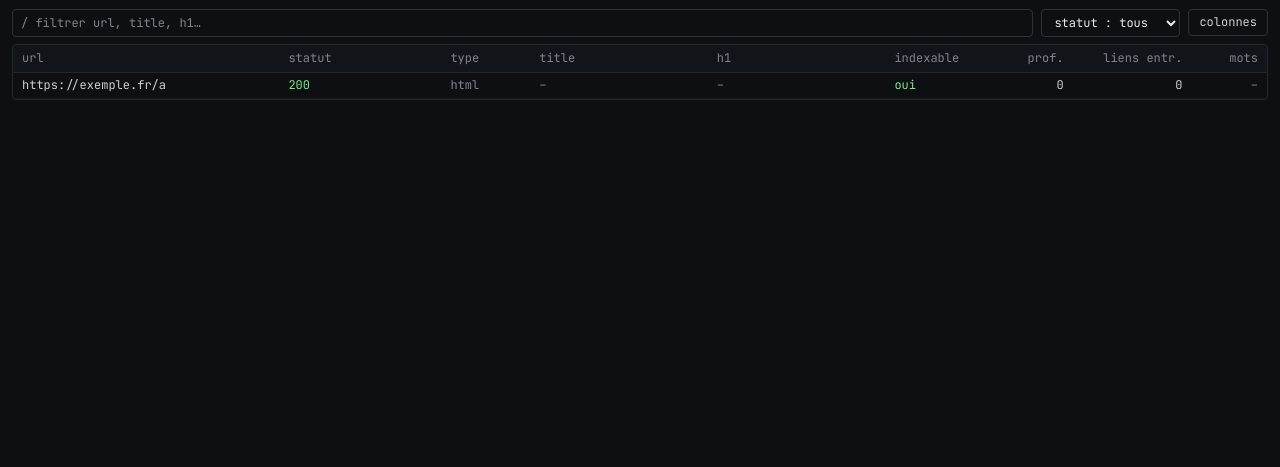
Test: la barre d’outils garde la recherche en enfant direct et les cases hors de ce sélecteur
Step 1. Click the button "colonnes" → (1228, 22), box left=1188, top=9, right=1268, bottom=36
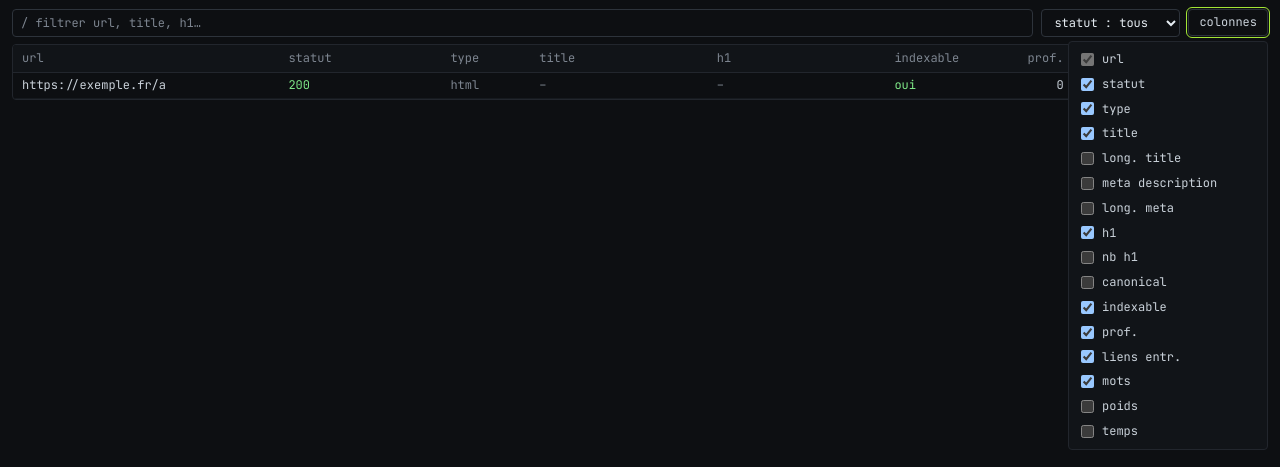
expect the search field with placeholder "/ filtrer url, title, h1…" is shown: met, box left=12, top=9, right=1033, bottom=37
expect the checkbox labelled "url" is shown: met, box left=1081, top=53, right=1094, bottom=66
